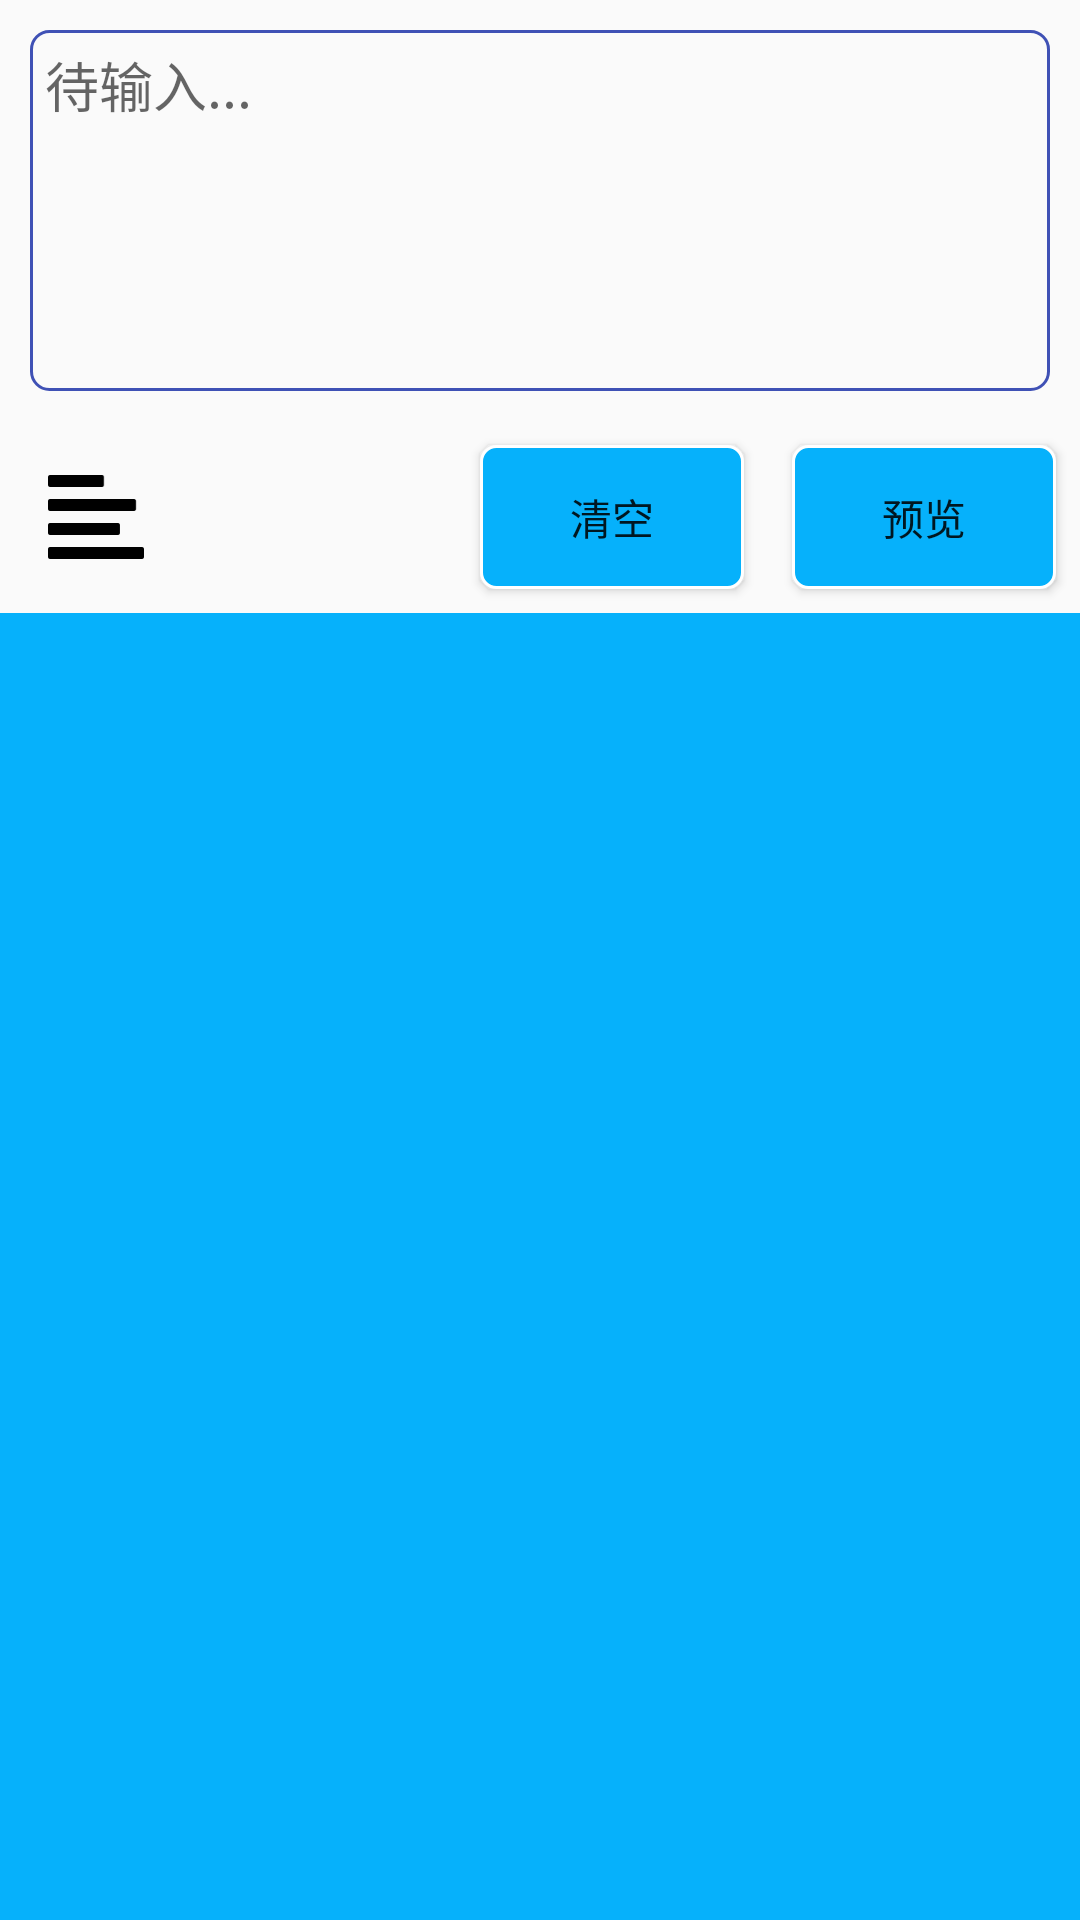

Screen size 1080*1920. Icon name, then its box in pixels as box(x1, y1, x2, y2):
align left: box(48, 475, 144, 559)
